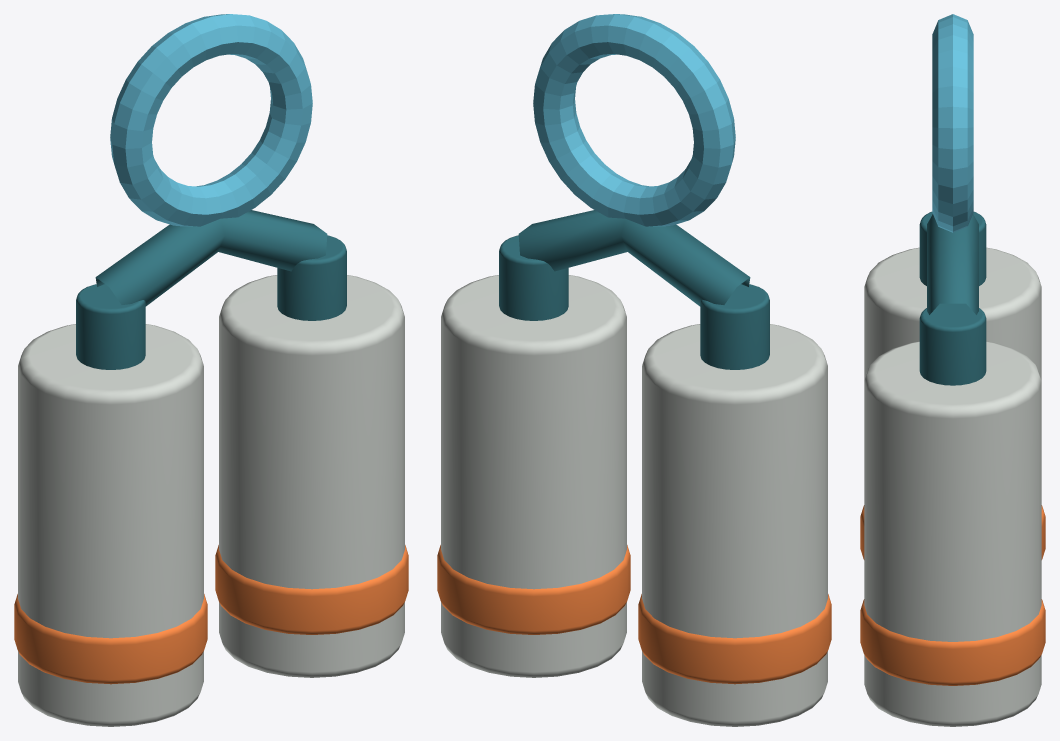
File: Resource_Air.glb
3 renders of one model, left to right at view 1: azimuth 30°, elevation 25°; view 2: azimuth 150°, elevation 25°; view 3: azimuth 270°, elevation 25°, orthographic. The views are drawn at different scales.
Visible parts, largest first — view 1: Air oxygen tank.001, Air oxygen tank, Oxygen bubble, Air bridge, Tank orange band, Tank orange band.001, Air tank valve, Air tank valve.001; view 2: Air oxygen tank.001, Air oxygen tank, Oxygen bubble, Air bridge, Tank orange band, Tank orange band.001, Air tank valve, Air tank valve.001; view 3: Air oxygen tank.001, Air oxygen tank, Oxygen bubble, Tank orange band.001, Air tank valve.001, Air bridge, Air tank valve, Tank orange band.
Part boxes in pixels (x1=…): Air oxygen tank.001: x1=219, y1=275, x2=404, y2=677; Air oxygen tank: x1=18, y1=324, x2=203, y2=726; Oxygen bubble: x1=110, y1=14, x2=312, y2=226; Air bridge: x1=95, y1=210, x2=327, y2=306; Tank orange band: x1=14, y1=594, x2=207, y2=684; Tank orange band.001: x1=215, y1=545, x2=408, y2=634; Air tank valve: x1=76, y1=284, x2=145, y2=369; Air tank valve.001: x1=277, y1=235, x2=346, y2=320; Air oxygen tank.001: x1=441, y1=275, x2=626, y2=677; Air oxygen tank: x1=642, y1=324, x2=827, y2=726; Oxygen bubble: x1=533, y1=14, x2=735, y2=226; Air bridge: x1=518, y1=210, x2=750, y2=306; Tank orange band: x1=638, y1=594, x2=831, y2=684; Tank orange band.001: x1=437, y1=545, x2=630, y2=634; Air tank valve: x1=700, y1=284, x2=769, y2=369; Air tank valve.001: x1=499, y1=235, x2=568, y2=320; Air oxygen tank.001: x1=864, y1=341, x2=1041, y2=726; Air oxygen tank: x1=864, y1=247, x2=1041, y2=379; Oxygen bubble: x1=932, y1=14, x2=973, y2=232; Tank orange band.001: x1=860, y1=599, x2=1045, y2=685; Air tank valve.001: x1=919, y1=303, x2=986, y2=385; Air bridge: x1=927, y1=214, x2=978, y2=314; Air tank valve: x1=919, y1=211, x2=986, y2=285; Tank orange band: x1=860, y1=505, x2=1045, y2=559.
Bounding box in the file's own units: 0.55 × 0.928 × 0.25.
